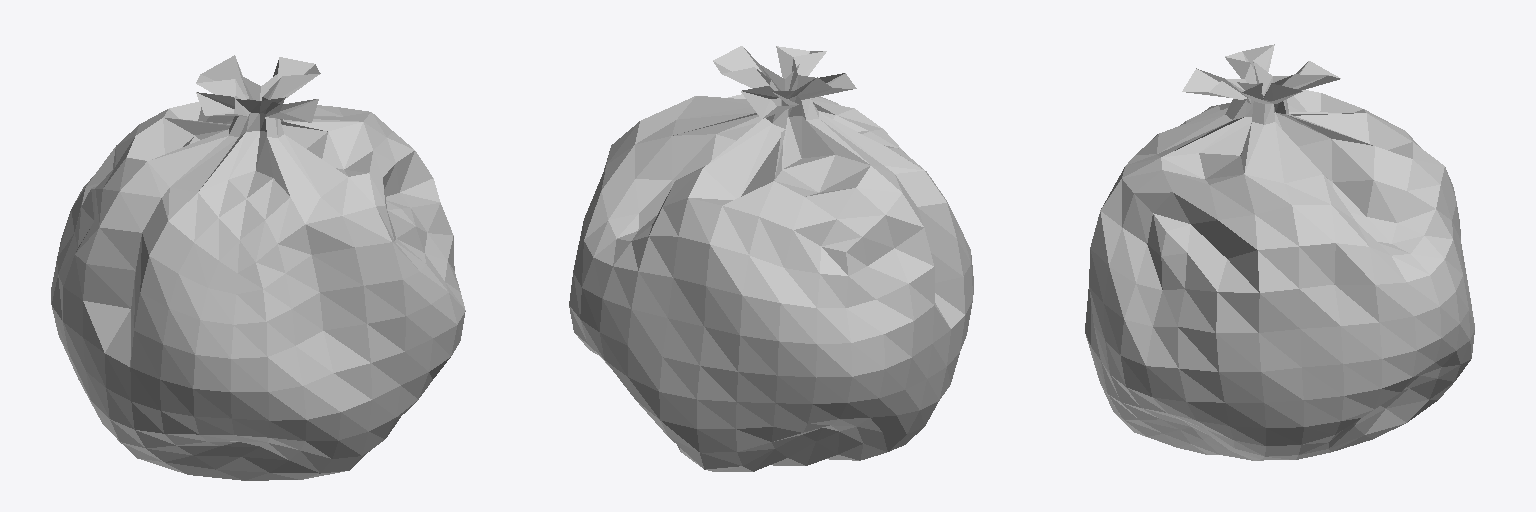
File: Bag.obj
3 renders of one model, left to right at view 1: azimuth 30°, elevation 25°; view 2: azimuth 150°, elevation 25°; view 3: azimuth 270°, elevation 25°, orthographic.
Visible parts, largest first — view 1: trash_bag.001; view 2: trash_bag.001; view 3: trash_bag.001.
Boxes of the visible parts, box(x1,y1,x2,y2) form: trash_bag.001: box(51, 55, 465, 480); trash_bag.001: box(569, 46, 973, 471); trash_bag.001: box(1085, 44, 1474, 460).
Size of the model in its own units: 2336 by 2437 by 2327.